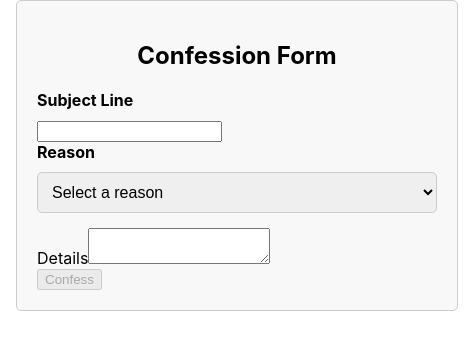
Test: displays validation message for "Details"
The width and height of the screenshot is (475, 348).
Note: Fill out the form inputs with invalid values for "Details"
Step 1. Type "Short" into the text box labelled "Details" → (179, 246), box [88,228,270,264]
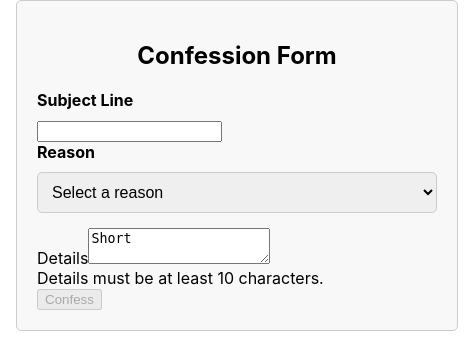
expect the text "Details must be at least 10 characters." is shown: met, box [37,268,324,288]
